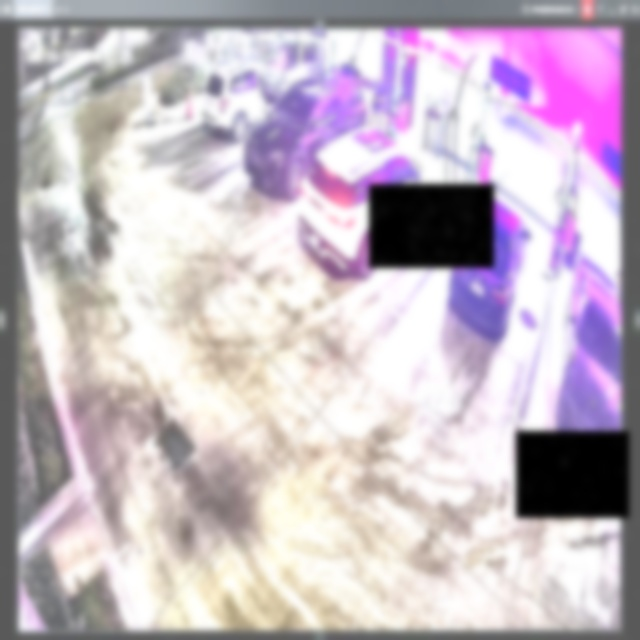Car: (299, 126, 438, 281), (244, 63, 368, 193), (449, 194, 530, 336)
